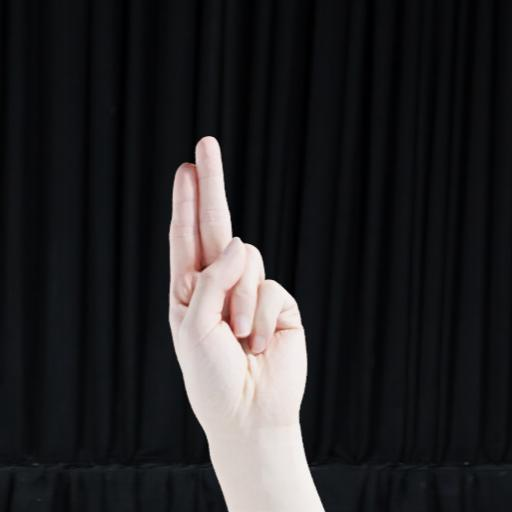U: (144, 122, 338, 492)
